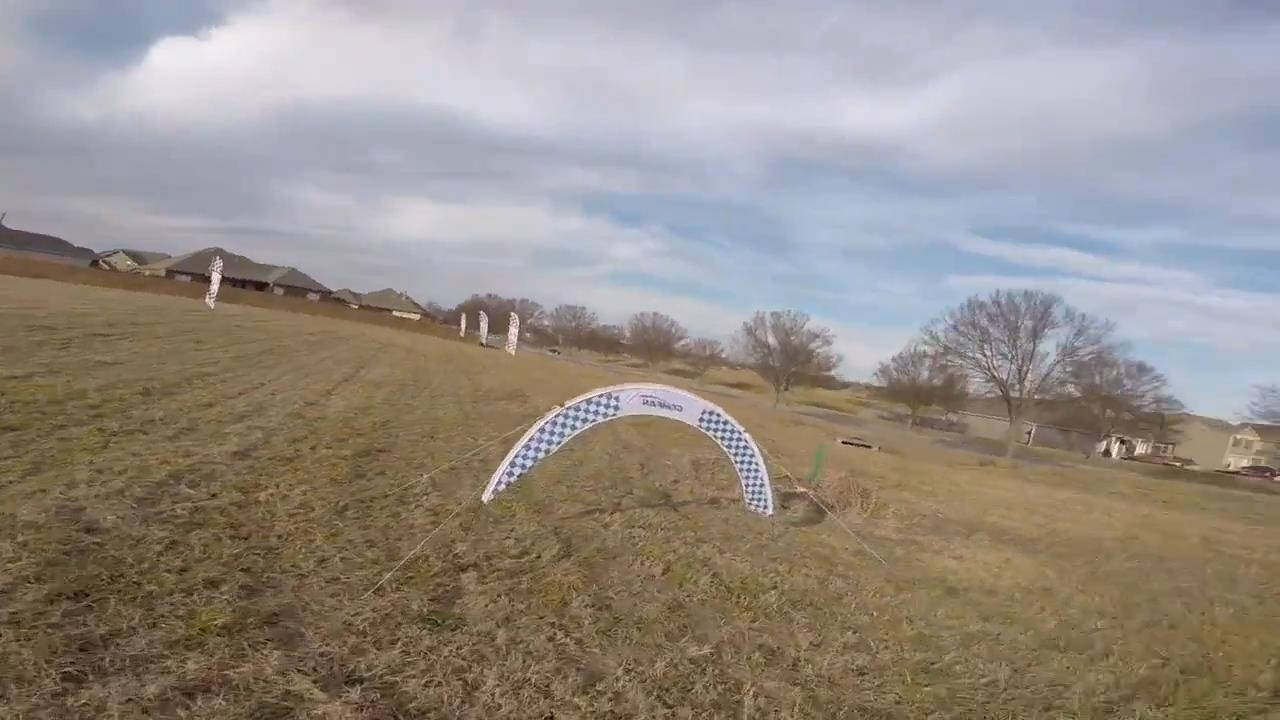gate: (480, 380, 779, 525)
